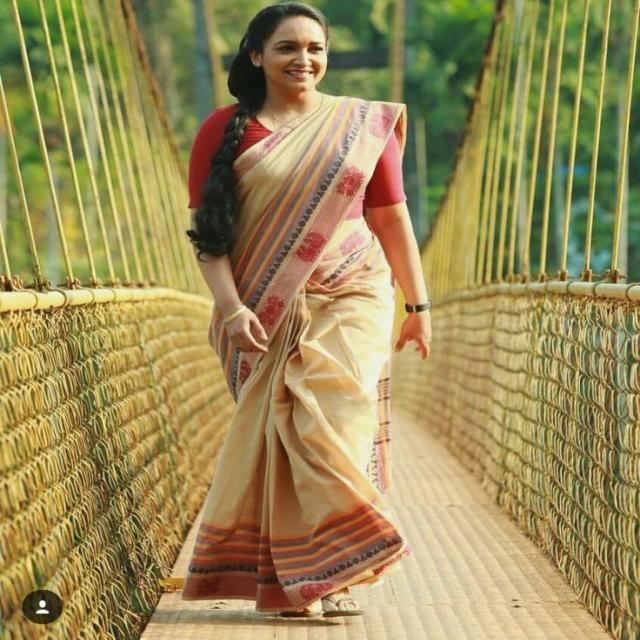female-dress: (193, 101, 423, 606)
